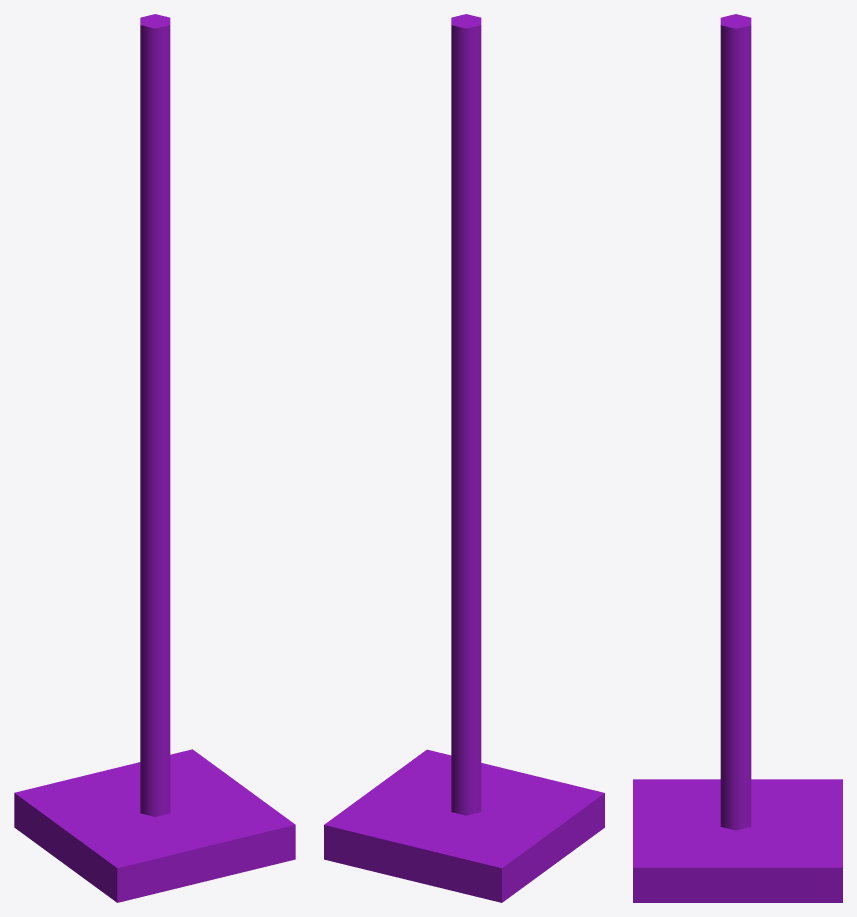
Rendered from shop cont hat holder.FBX.
3 renders of one model, left to right at view 1: azimuth 30°, elevation 25°; view 2: azimuth 150°, elevation 25°; view 3: azimuth 270°, elevation 25°, orthographic.
Parts seen in each view (by area): view 1: Box401; view 2: Box401; view 3: Box401.
Boxes of the visible parts, x1=… form: Box401: x1=14, y1=14, x2=295, y2=902; Box401: x1=324, y1=14, x2=604, y2=902; Box401: x1=633, y1=14, x2=842, y2=902.
Size of the model in its own units: 0.188 by 0.8293 by 0.1883.
